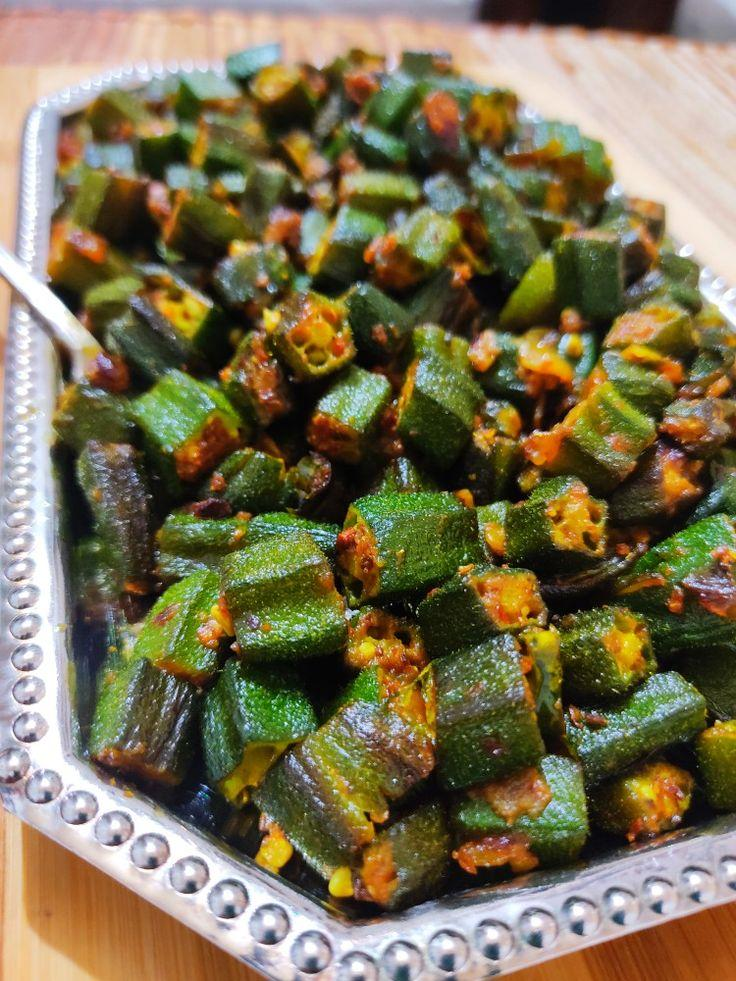bhindi: (91, 90, 630, 874)
